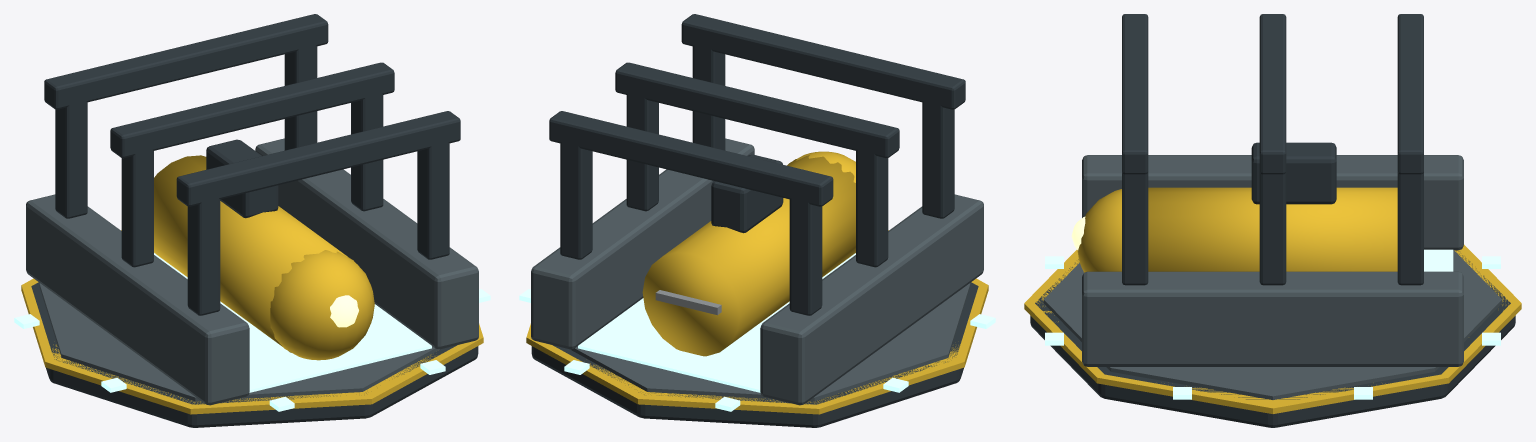
The model's file is submarine_dock.fbx.
3 renders of one model, left to right at view 1: azimuth 30°, elevation 25°; view 2: azimuth 150°, elevation 25°; view 3: azimuth 270°, elevation 25°, orthographic. The views are drawn at different scales.
Visible parts, largest first — view 1: submarine_dock; view 2: submarine_dock, ANIM_spin_y_300__sub_prop; view 3: submarine_dock.
Boxes of the visible parts, <box> form: submarine_dock: <box>14,14,490,427</box>; submarine_dock: <box>519,14,995,427</box>; ANIM_spin_y_300__sub_prop: <box>655,290,721,315</box>; submarine_dock: <box>1024,14,1521,427</box>.
Bounding box in the file's own units: 4.69 × 2.55 × 4.69.
